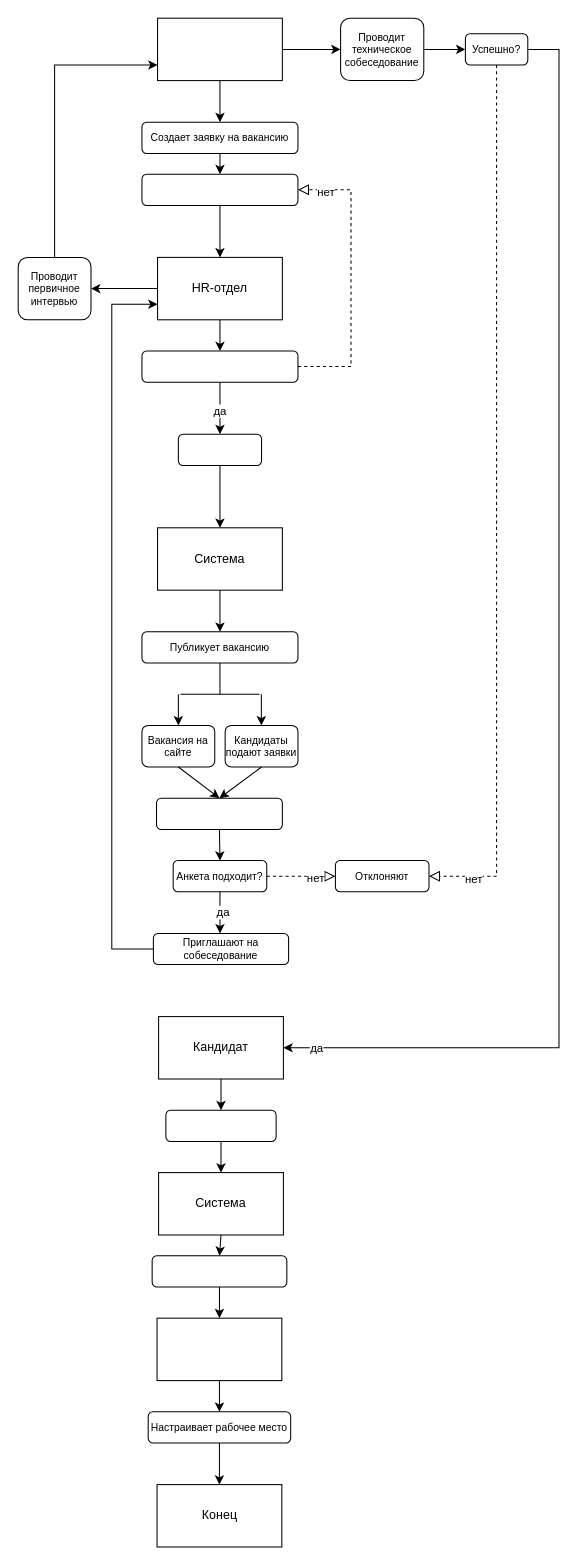
The diagram is 586 pixels wide and 1565 high, and some of its shapes have lost their labels. The shapes that lost their labels are listed below. From the top down, each one's centre as x and y in pixels, then its label:
At (x=219, y=49): "Руководитель".
At (x=219, y=189): "Дорабатывает заявку".
At (x=219, y=366): "Соответствует нормам?".
At (x=219, y=449): "Утверждает".
At (x=218, y=813): "HR-проверяет анкеты".
At (x=220, y=1125): "Принимает оффер".
At (x=219, y=1271): "Добавляет в базу данных".
At (x=219, y=1349): "IT-отдел".
